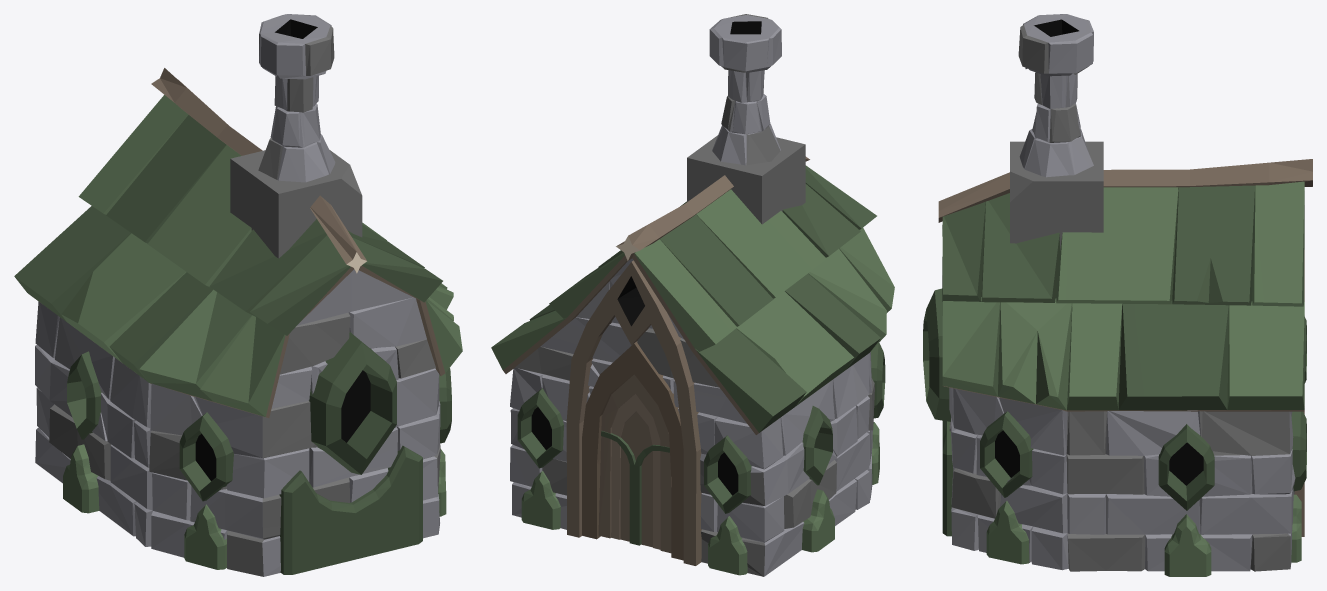
File: cabin.fbx
3 renders of one model, left to right at view 1: azimuth 30°, elevation 25°; view 2: azimuth 150°, elevation 25°; view 3: azimuth 270°, elevation 25°, orthographic. The views are drawn at different scales.
Parts seen in each view (by area): view 1: bakkery; view 2: bakkery; view 3: bakkery.
Part boxes in pixels (bbox=[...]): bakkery: bbox=[14, 14, 462, 576]; bakkery: bbox=[491, 14, 894, 576]; bakkery: bbox=[923, 14, 1312, 576].
Size of the model in its own units: 156 by 232 by 172.
